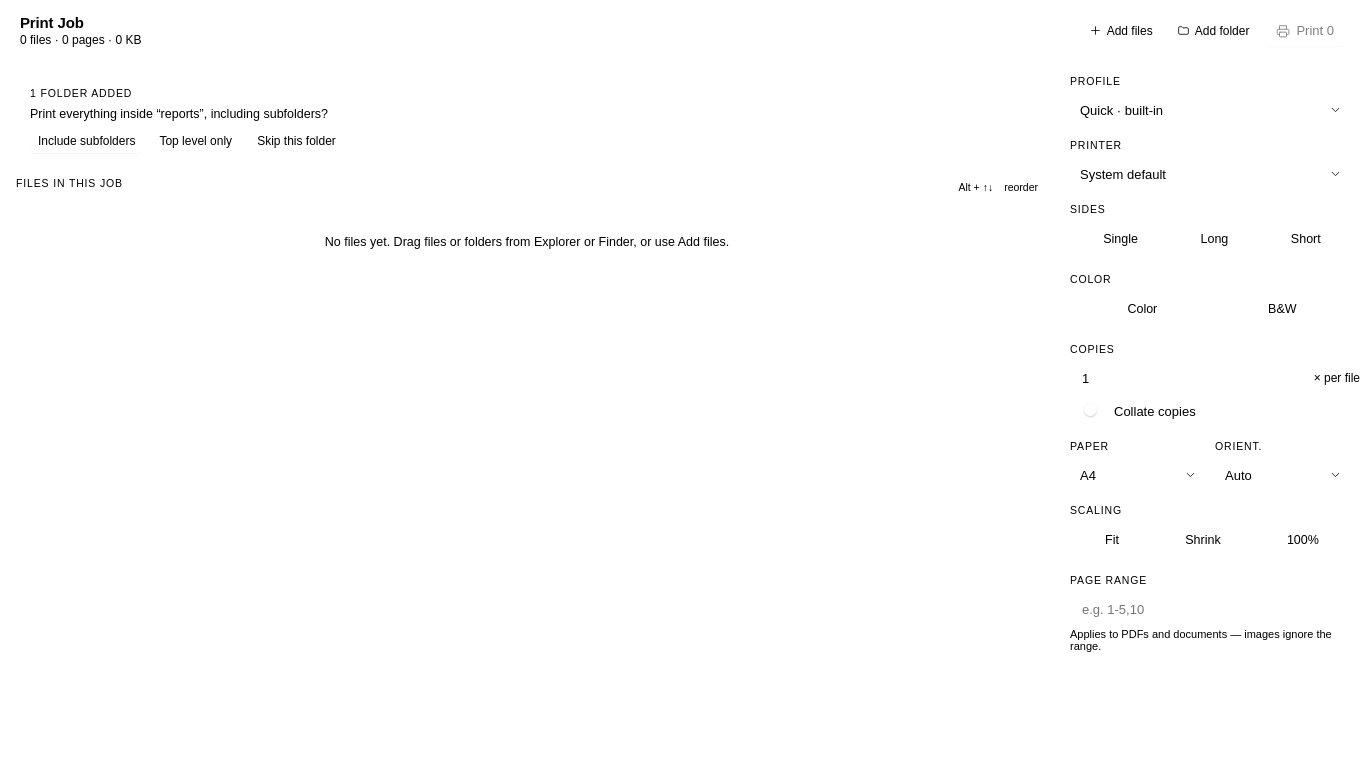
Test: PrintJobScreen › FR-004: skipping a folder leaves the job untouched
The image size is (1366, 768).
Click the button "Skip this folder": (296, 141) [248, 129, 345, 153]
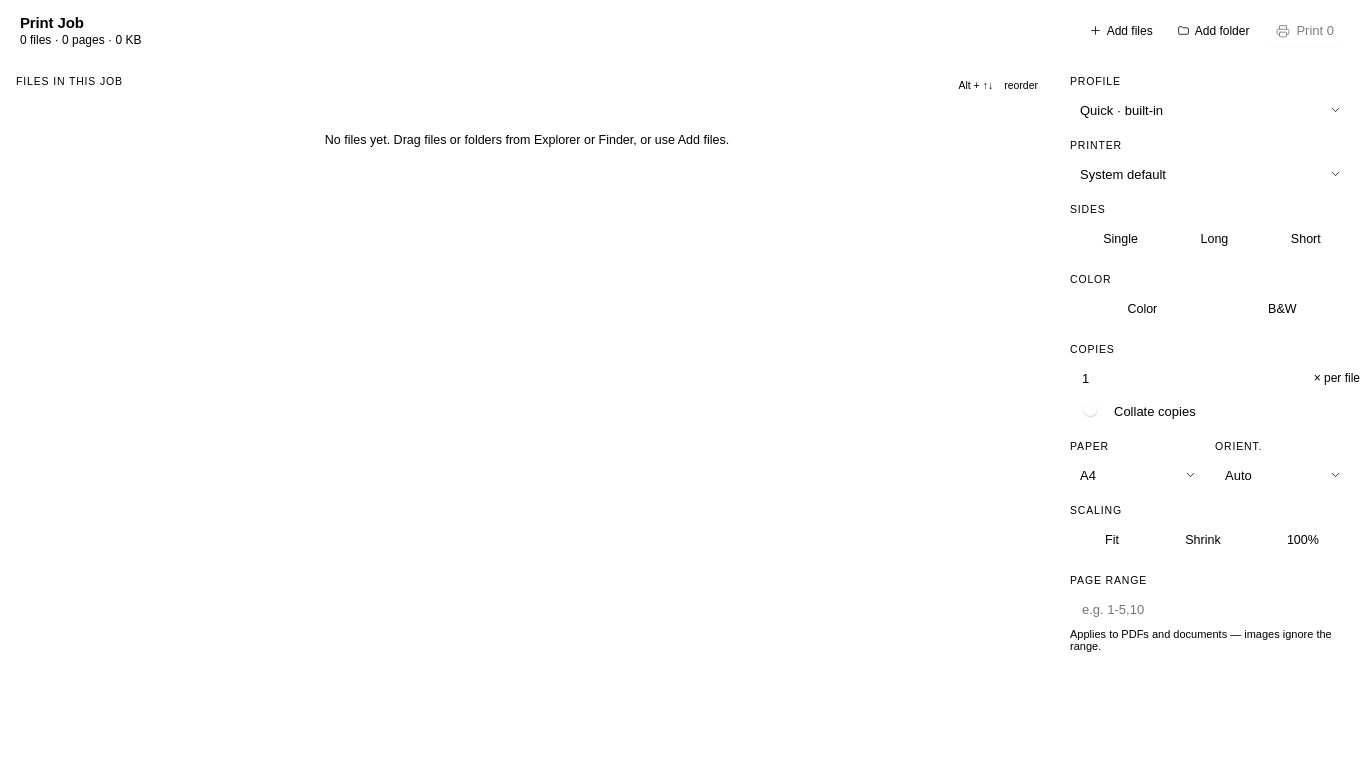
expect the text "Print everything inside" is gone: met
